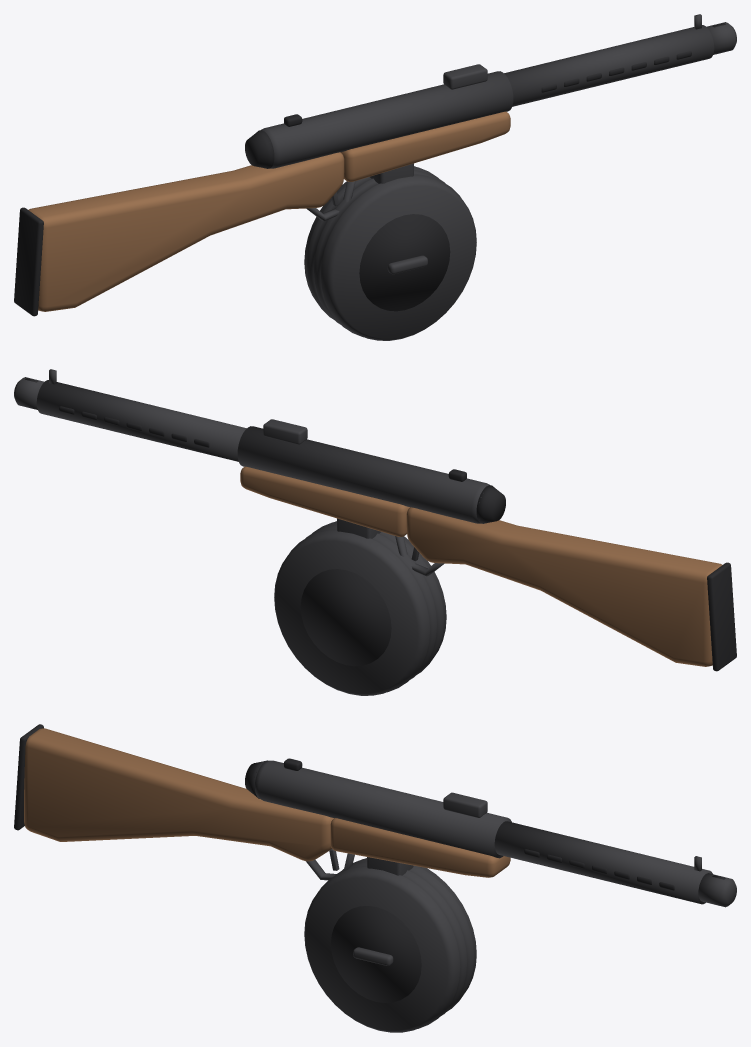
File: SM_Suomi.glb
3 views of the same model, one above another, from view 1: azimuth 30°, elevation 25°; view 2: azimuth 150°, elevation 25°; view 3: azimuth 330°, elevation 25° (orthographic).
Visible parts, largest first — view 1: SM_Suomi; view 2: SM_Suomi; view 3: SM_Suomi.
Boxes of the visible parts, x1=… form: SM_Suomi: x1=14, y1=14, x2=736, y2=340; SM_Suomi: x1=14, y1=369, x2=736, y2=695; SM_Suomi: x1=14, y1=724, x2=736, y2=1032.
Size of the model in its own units: 0.946 by 0.31 by 0.08.
